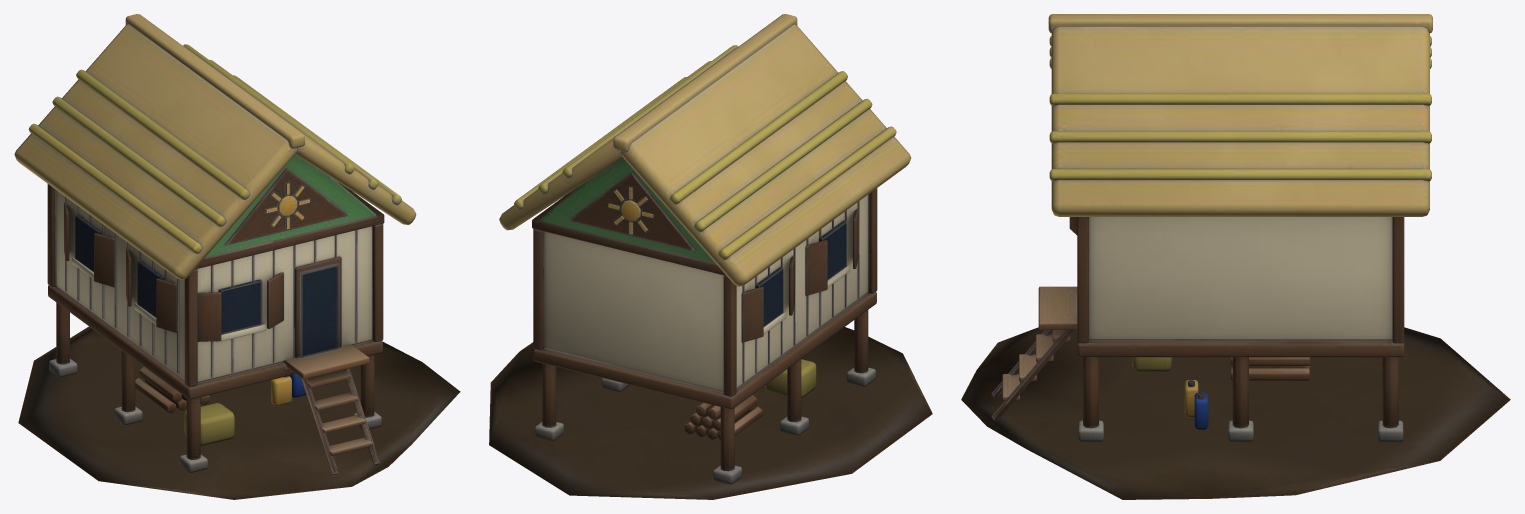
The model's file is aceh_house_b.glb.
The picture shows the model from 3 angles, left to right: view 1: azimuth 30°, elevation 25°; view 2: azimuth 150°, elevation 25°; view 3: azimuth 270°, elevation 25°; orthographic projection. The views are drawn at different scales.
Parts seen in each view (by area): view 1: aceh_house_b; view 2: aceh_house_b; view 3: aceh_house_b.
Part boxes in pixels (<box>): aceh_house_b: <box>14,14,460,499</box>; aceh_house_b: <box>489,14,932,499</box>; aceh_house_b: <box>961,14,1510,499</box>.
Size of the model in its own units: 4.9 by 4.2 by 5.58.
Materials: 1 (1 with a texture image).
